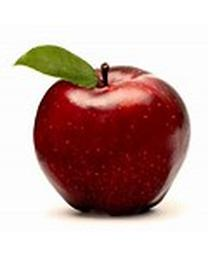apple: (12, 44, 190, 216)
